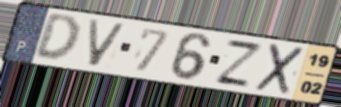6: (167, 32, 213, 83)
7: (136, 26, 172, 74)
D: (31, 13, 80, 64)
V: (86, 17, 129, 69)
X: (252, 42, 307, 97)
Z: (212, 37, 266, 90)
